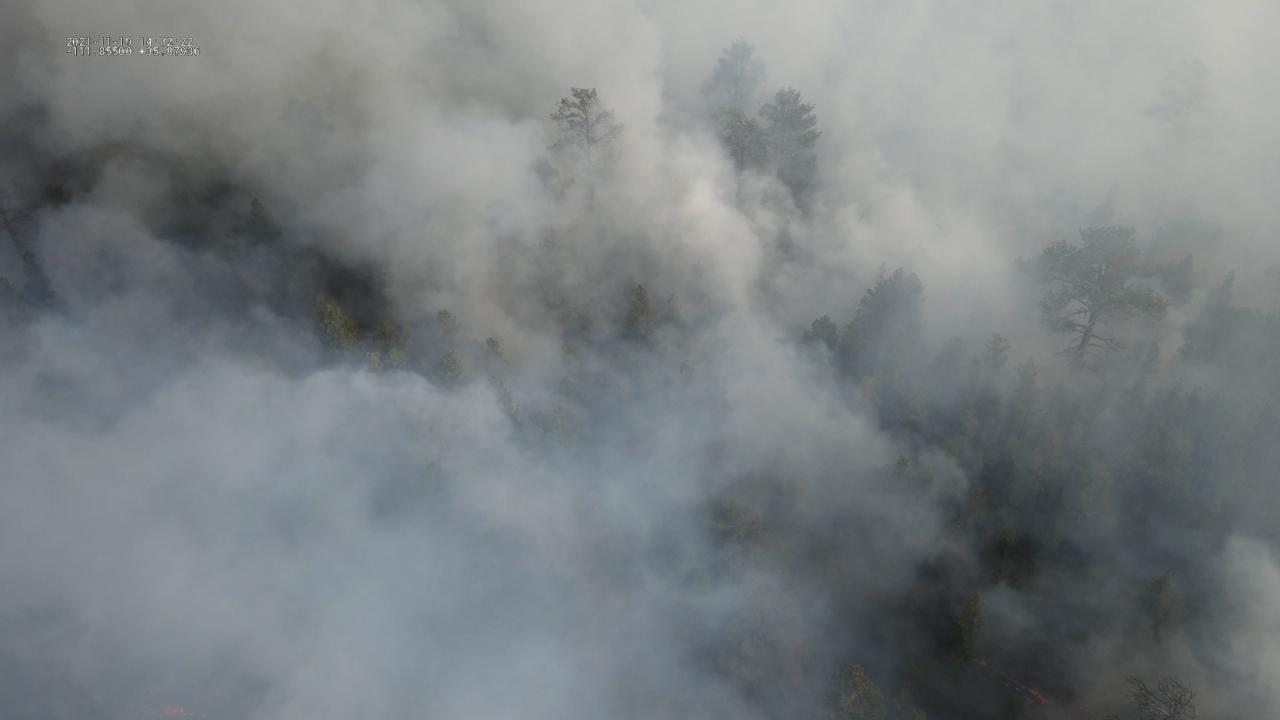fire: (1022, 685, 1050, 707), (971, 656, 989, 667)
smoke: (0, 0, 1280, 720)
